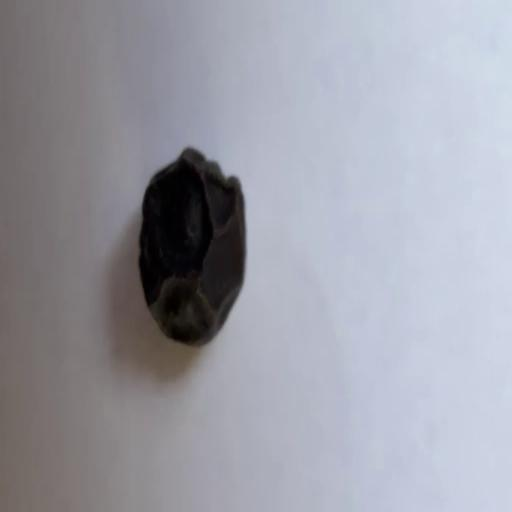Black_pepper: (110, 135, 288, 373)
